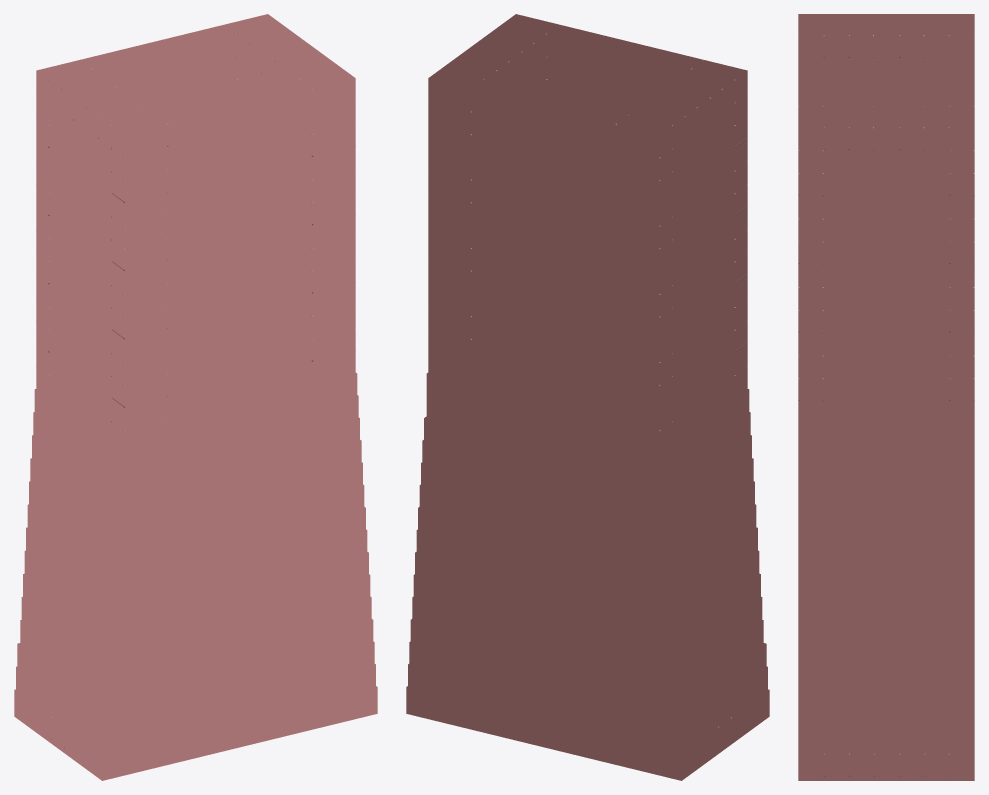
The model's file is fireplace.fbx.
3 renders of one model, left to right at view 1: azimuth 30°, elevation 25°; view 2: azimuth 150°, elevation 25°; view 3: azimuth 270°, elevation 25°, orthographic.
Visible parts, largest first — view 1: FirePlace; view 2: FirePlace; view 3: FirePlace.
Part boxes in pixels (left/top/right/bottom): FirePlace: left=14, top=14, right=377, bottom=780; FirePlace: left=406, top=14, right=769, bottom=780; FirePlace: left=798, top=14, right=974, bottom=780.
Bounding box in the file's own units: 190 × 423 × 105.
